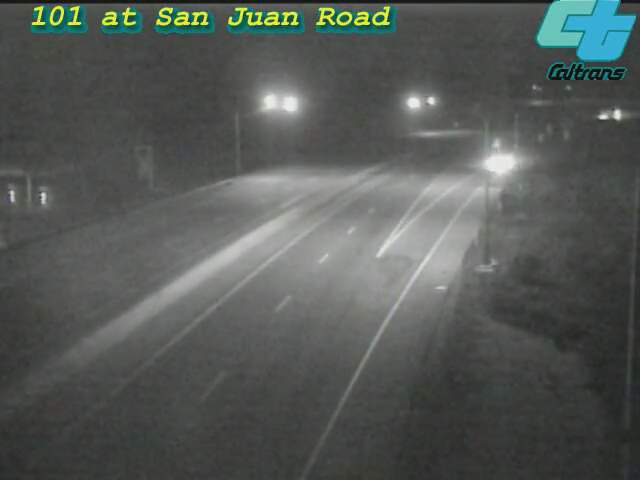vehicle: (458, 125, 538, 205), (593, 89, 640, 139)
